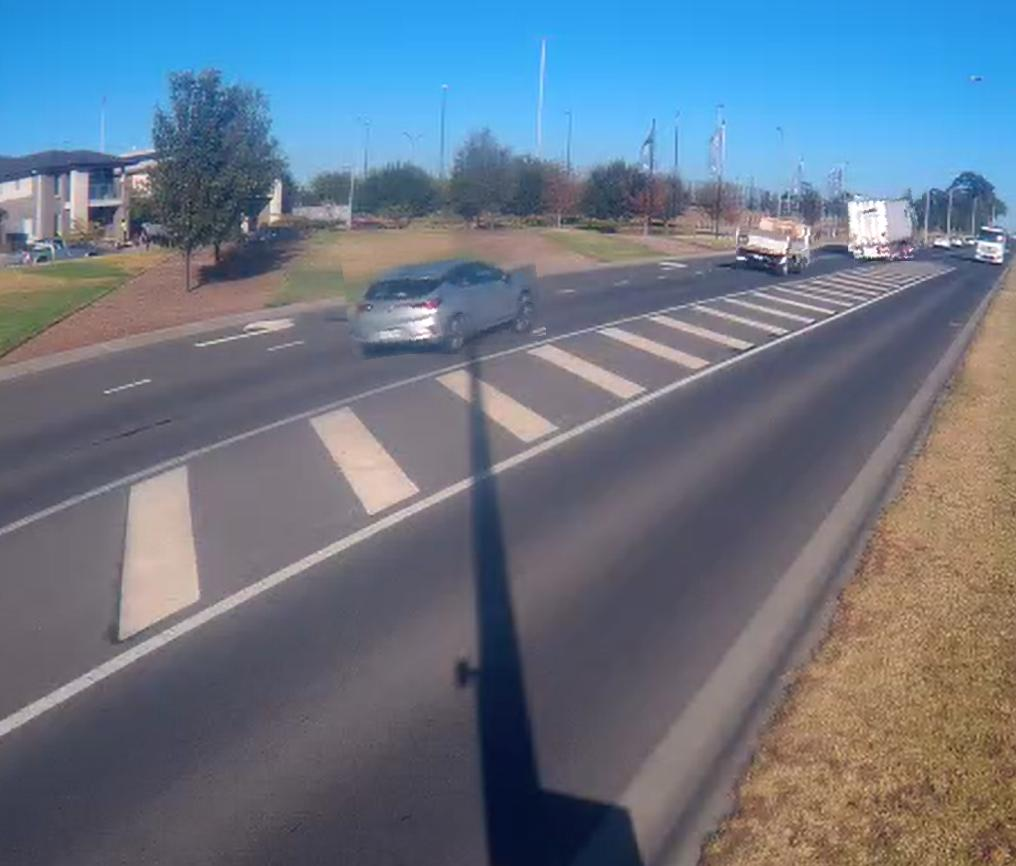VEHICLE TYPE 1: (346, 244, 545, 356), (738, 215, 821, 281)
VEHICLE TYPE 2: (849, 189, 923, 262)
wheel: (444, 315, 474, 354), (515, 302, 541, 343)
